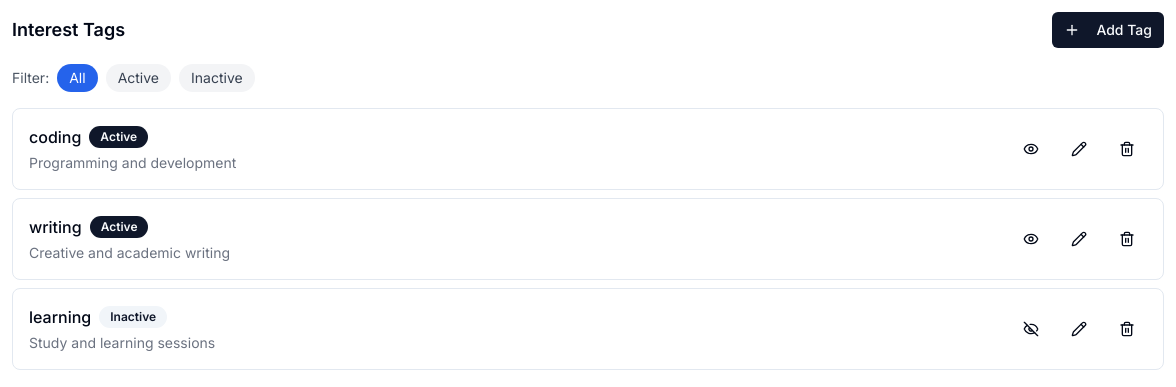
Test: InterestTagManager › should show all tags when "all" filter selected
Expected: the text "coding" is shown, [29,125,81,149]
# Click "active" filter first
Click the button "active": (138, 78) [106,64,171,92]
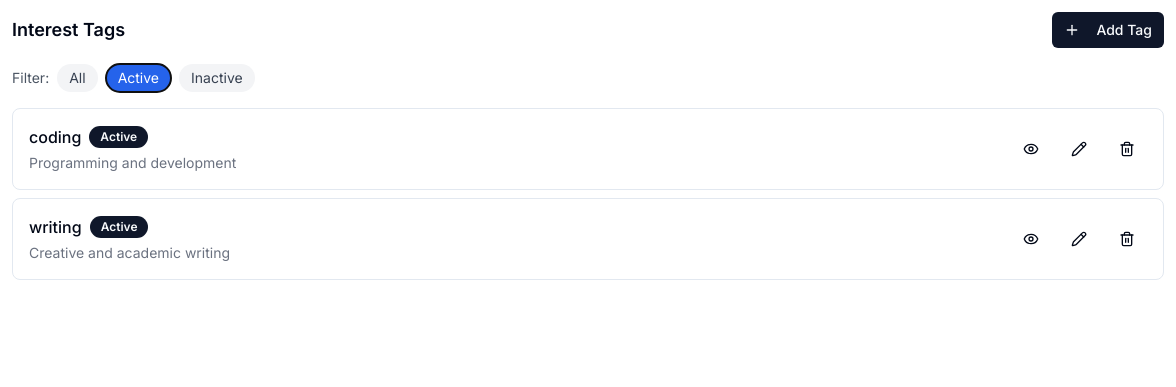
# Then click "all"
Click the button "all": (77, 78) [57,64,98,92]
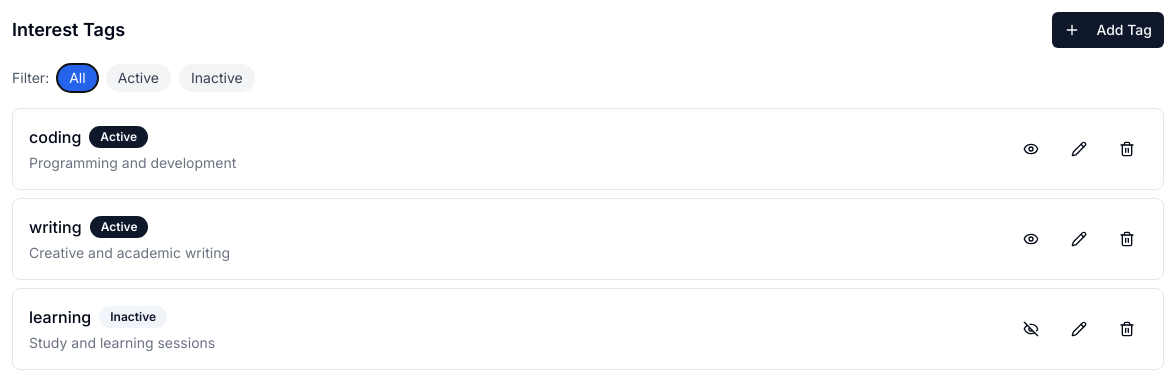
Expected: the text "coding" is shown, [29,125,81,149]
Expected: the text "learning" is shown, [29,305,91,329]
